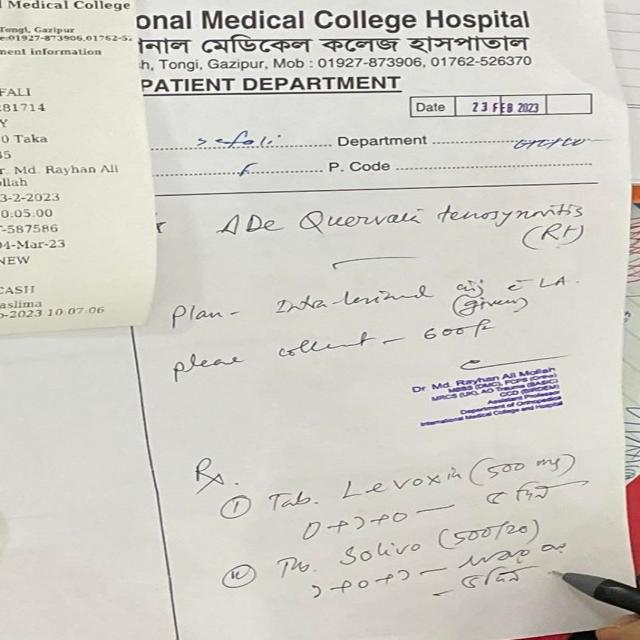Levoxin: (330, 466, 472, 504)
Solivo: (333, 540, 430, 567)
